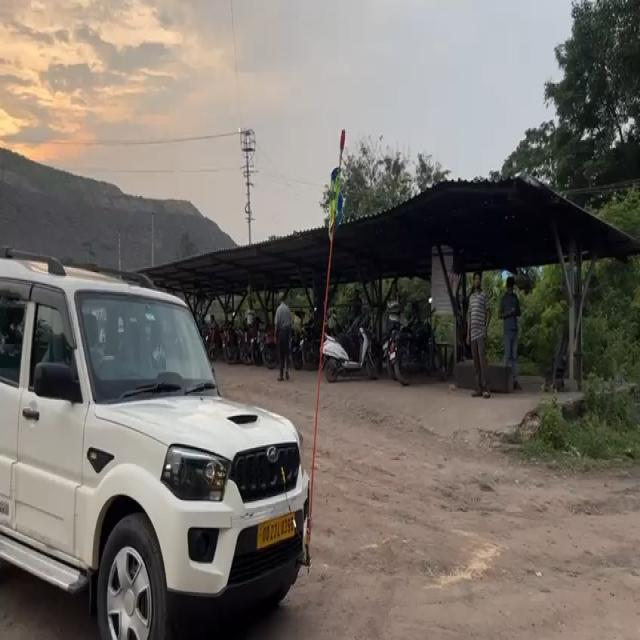light_vehicle: (0, 250, 314, 640)
